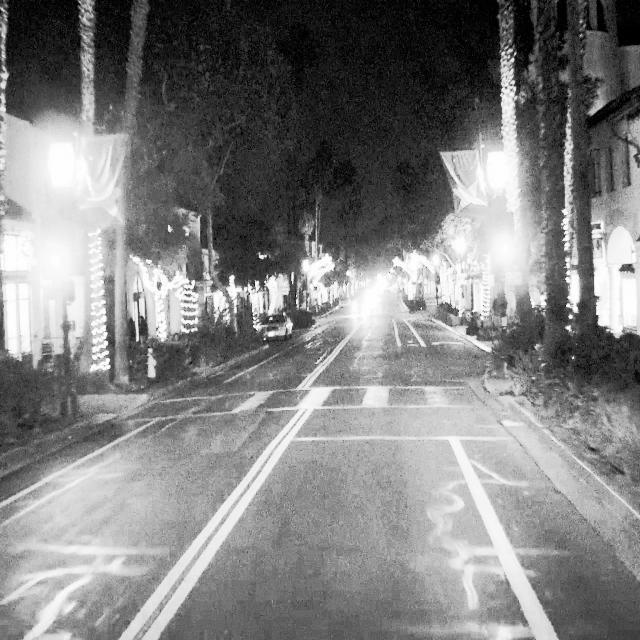Light: (38, 210, 71, 282)
Tree: (563, 0, 611, 384), (497, 0, 531, 354), (533, 0, 565, 374)
